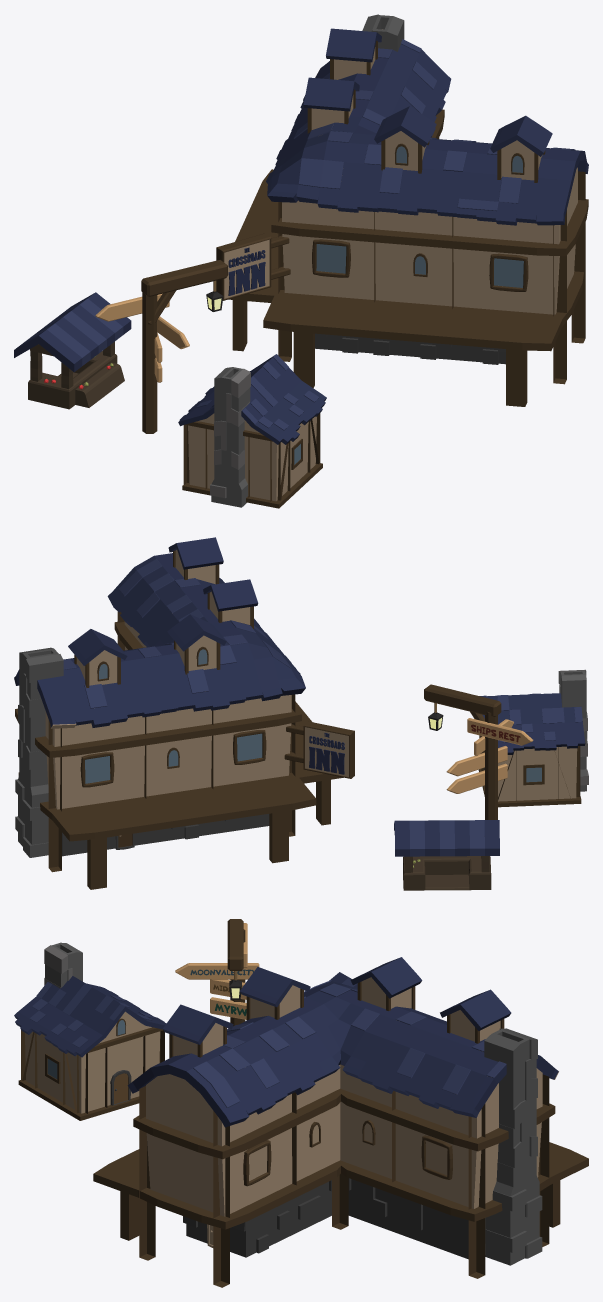
File: Crossroads.glb
3 renders of one model, top to bottom at view 1: azimuth 30°, elevation 25°; view 2: azimuth 150°, elevation 25°; view 3: azimuth 270°, elevation 25°, orthographic. The views are drawn at different scales.
Parts seen in each view (by area): view 1: Crossroads Inn, Crossroads House, Crossroads Stall, Light Post.001, Sign Post.002, SP Sign.002; view 2: Crossroads Inn, Crossroads House, Crossroads Stall, Light Post.001, Sign Post.002, SP Sign.002, MV Sign.001, MV Sign.005; view 3: Crossroads Inn, Crossroads House, Light Post.001, GG Sign.002, MV Sign.005.
Part boxes in pixels (x1=…): Crossroads Inn: x1=216, y1=14, x2=588, y2=406; Crossroads House: x1=178, y1=354, x2=326, y2=508; Crossroads Stall: x1=14, y1=292, x2=131, y2=409; Light Post.001: x1=141, y1=260, x2=227, y2=324; Sign Post.002: x1=142, y1=292, x2=157, y2=433; SP Sign.002: x1=95, y1=293, x2=169, y2=321; Crossroads Inn: x1=14, y1=537, x2=354, y2=889; Crossroads House: x1=478, y1=669, x2=588, y2=807; Crossroads Stall: x1=394, y1=820, x2=499, y2=890; Light Post.001: x1=424, y1=684, x2=501, y2=730; Sign Post.002: x1=485, y1=712, x2=497, y2=819; SP Sign.002: x1=467, y1=718, x2=533, y2=745; MV Sign.001: x1=446, y1=746, x2=507, y2=776; MV Sign.005: x1=446, y1=763, x2=507, y2=793; Crossroads Inn: x1=93, y1=957, x2=588, y2=1287; Crossroads House: x1=14, y1=942, x2=166, y2=1120; Light Post.001: x1=227, y1=919, x2=243, y2=999; GG Sign.002: x1=175, y1=963, x2=259, y2=979; MV Sign.005: x1=210, y1=997, x2=246, y2=1019.
Bounding box in the file's own units: 2.48 × 1.14 × 2.44.
